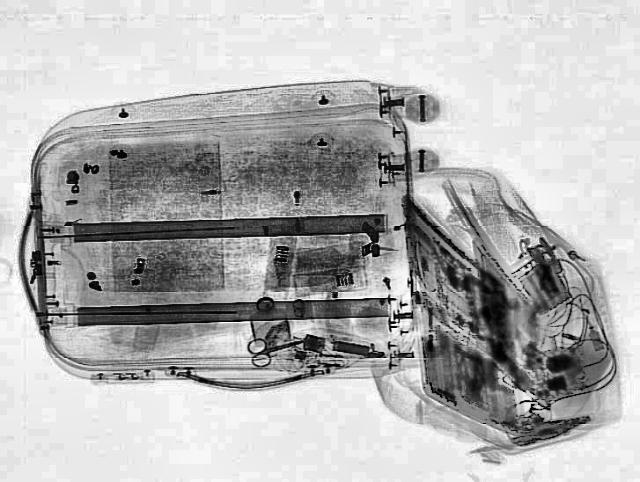Scissors: (237, 328, 309, 366)
